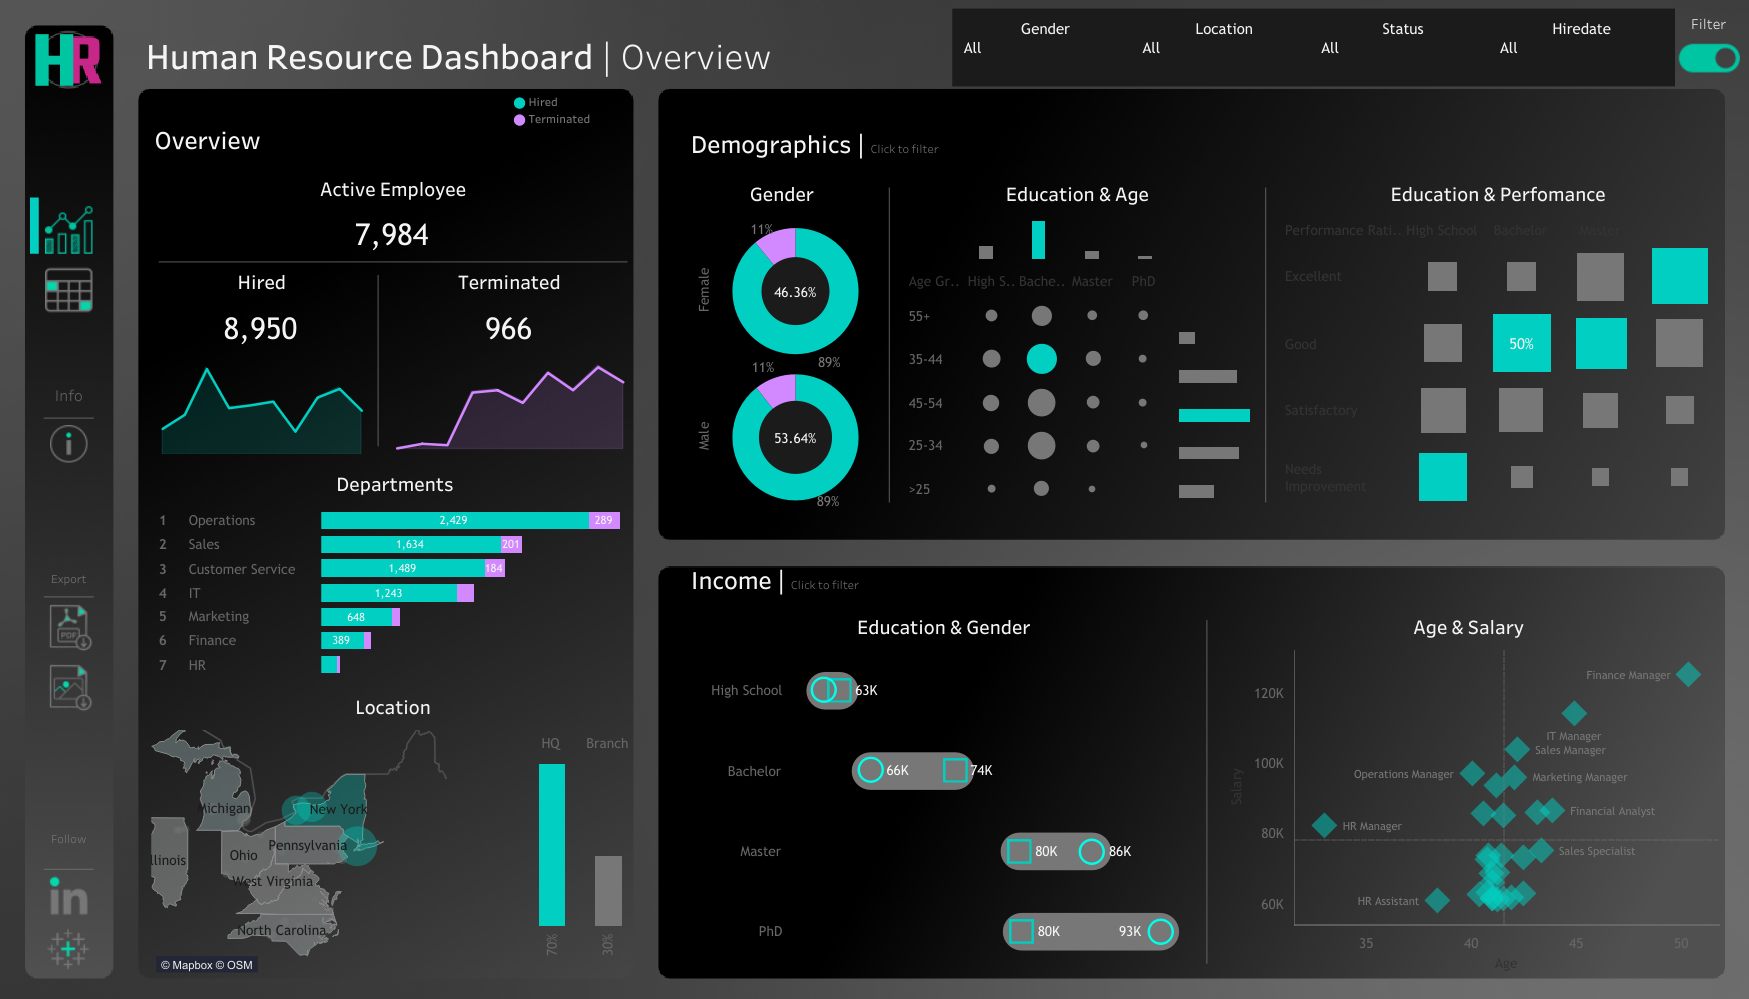

The page's visual inventory and layout, read from the dashboard file:
{"tool":"tableau","page":{"name":"HR_data","canvas":[1400,800],"ordinal":0},"visuals":[{"type":"image","param":"Image/background dashbaord summary.png","box":[0,0,1400,800]},{"type":"blank","box":[89,0,1316,363]},{"type":"text","box":[110,0,635,87]},{"type":"blank","box":[745,0,641,87]},{"type":"filter","title":"Gender vs Education level","param":"[federated.1k6ors91jbjti91bfgpzm10emwuz].[none:Gender:nk]","box":[765,10,143,56]},{"type":"filter","title":"Gender vs Education level","param":"[federated.1k6ors91jbjti91bfgpzm10emwuz].[none:Calculation_1438055678017351686:n","box":[908,10,143,56]},{"type":"filter","title":"Gender vs Education level","param":"[federated.1k6ors91jbjti91bfgpzm10emwuz].[none:Calculation_25332770489622528:nk]","box":[1051,10,143,56]},{"type":"filter","title":"Gender vs Education level","param":"[federated.1k6ors91jbjti91bfgpzm10emwuz].[yr:Hiredate:ok]","box":[1194,10,143,56]},{"type":"dashboard-object","box":[1343,18,49,57]},{"type":"image","param":"Image/Logo.png","box":[20,20,70,55]},{"type":"text","box":[408,66,100,44]},{"type":"blank","box":[20,75,70,80]},{"type":"text","box":[117,94,395,40]},{"type":"text","box":[546,94,833,41]},{"type":"text","box":[117,134,395,38]},{"type":"text","box":[546,140,160,33]},{"type":"blank","box":[711,140,1,272.5]},{"type":"text","box":[717,140,290,33]},{"type":"blank","box":[1012,140,1,272.5]},{"type":"text","box":[1018,140,361,33]},{"type":"blank","box":[24,158,7,45]},{"type":"dashboard-object","box":[30,165,50,38]},{"type":"worksheet","title":"Batch Active","mark":"Automatic","box":[117,172,395,42]},{"type":"worksheet","title":"Gender","mark":"Pie","rows":["Gender"],"cols":["Calculation_1438055678028283912","Calculation_1438055678028283912"],"box":[546,173,160,239.5]},{"type":"worksheet","title":" Education Levels","mark":"Bar","rows":["Calculation_1438055678006616064"],"cols":["Education Level"],"box":[717,173,290,41]},{"type":"worksheet","title":"Education vs Performance","mark":"Square","rows":["Performance Rating"],"cols":["Education Level"],"box":[1018,173,361,239.5]},{"type":"blank","box":[30,203,50,10]},{"type":"dashboard-object","box":[30,213,50,38]},{"type":"blank","box":[117,214,395,1]},{"type":"worksheet","title":"Age vs Education","mark":"Circle","rows":["Calculation_1438055678037385226"],"cols":["Education Level"],"box":[717,214,222,198.5]},{"type":"worksheet","title":"Age Groups","mark":"Bar","rows":["Calculation_1438055678037385226"],"cols":["Calculation_1438055678006616064"],"box":[939,214,68,198.5]},{"type":"text","box":[117,215,185,33]},{"type":"blank","box":[302,215,1,157]},{"type":"text","box":[303,215,208.9,33]},{"type":"worksheet","title":"Batch Hired","mark":"Automatic","box":[117,248,185,46]},{"type":"worksheet","title":"Batch Terminated","mark":"Automatic","box":[303,248,208.9,45]},{"type":"blank","box":[30,251,50,51.5]},{"type":"worksheet","title":"Terminated by Year","mark":"Line","rows":["Calculation_1438055678009270275","Calculation_1438055678009270275"],"cols":["Termdate"],"box":[303,293,208.9,79]},{"type":"worksheet","title":"Hired by Year","mark":"Line","rows":["Calculation_1438055678006616064","Calculation_1438055678006616064"],"cols":["Hiredate"],"box":[117,294,185,78]},{"type":"text","box":[30,302.5,50,29]},{"type":"blank","box":[30,331.5,50,11]},{"type":"dashboard-object","box":[30,342.5,50,30]},{"type":"text","box":[89,363,1316,262]},{"type":"blank","box":[30,372.5,50,51.5]},{"type":"blank","box":[127,377,123,33]},{"type":"text","box":[250,377,132,33]},{"type":"blank","box":[382,377,120,33]},{"type":"worksheet","title":"Employee Departments","mark":"Bar","rows":["Calculation_1438055678016319493","Department"],"cols":["Calculation_1438055678006616064"],"box":[117,410,395,143]},{"type":"blank","box":[30,424.1,50,29.2]},{"type":"text","box":[546,446.5,833,38.5]},{"type":"text","box":[30,453.3,50,20]},{"type":"blank","box":[30,473.3,50,11]},{"type":"dashboard-object","box":[30,484.3,50,38]},{"type":"text","box":[551,490,409,33]},{"type":"blank","box":[965,490,1,295]},{"type":"text","box":[971,490,408,33]},{"type":"blank","box":[30,522.3,50,10]},{"type":"worksheet","title":"Gender vs Education level","mark":"Shape","rows":["Education Level"],"cols":["Salary","Salary"],"box":[551,523,409,262]},{"type":"worksheet","title":"Age vs Salary","mark":"Shape","rows":["Salary"],"cols":["Calculation_1438055678036418569"],"box":[971,523,408,262]},{"type":"dashboard-object","box":[30,532.3,50,38]},{"type":"blank","box":[127,558,127.7,33]},{"type":"text","box":[254.7,558,119.7,33]},{"type":"blank","box":[374.3,558,127.7,33]},{"type":"blank","box":[30,570.3,50,51.5]},{"type":"worksheet","title":"Map state","mark":"Automatic","box":[117,591,298,194]},{"type":"worksheet","title":"Location","mark":"Bar","rows":["Calculation_1438055678006616064"],"cols":["Calculation_1438055678017351686","Calculation1"],"box":[415,591,97,194]},{"type":"blank","box":[30,621.8,50,29.2]},{"type":"blank","box":[89,625,1316,175]},{"type":"text","box":[30,651,50,39]},{"type":"blank","box":[30,690,50,11]},{"type":"image","param":"Image/contact-linkedin.png","box":[30,701,50,32]},{"type":"blank","box":[30,733,50,10]},{"type":"image","param":"Image/contact-public.png","box":[30,743,50,33]}]}

Visuals, with their boxes in screenshot pixels (x1, y1, x2, y2), scaled from the page's 1400x800 canvas onto the 1749x999 screenshot:
image: {"x1": 0, "y1": 0, "x2": 1748, "y2": 998}
blank: {"x1": 111, "y1": 0, "x2": 1748, "y2": 453}
text: {"x1": 137, "y1": 0, "x2": 931, "y2": 109}
blank: {"x1": 931, "y1": 0, "x2": 1732, "y2": 109}
"Gender vs Education level" filter: {"x1": 956, "y1": 12, "x2": 1134, "y2": 82}
"Gender vs Education level" filter: {"x1": 1134, "y1": 12, "x2": 1313, "y2": 82}
"Gender vs Education level" filter: {"x1": 1313, "y1": 12, "x2": 1492, "y2": 82}
"Gender vs Education level" filter: {"x1": 1492, "y1": 12, "x2": 1670, "y2": 82}
dashboard-object: {"x1": 1678, "y1": 22, "x2": 1739, "y2": 94}
image: {"x1": 25, "y1": 25, "x2": 112, "y2": 94}
text: {"x1": 510, "y1": 82, "x2": 635, "y2": 137}
blank: {"x1": 25, "y1": 94, "x2": 112, "y2": 194}
text: {"x1": 146, "y1": 117, "x2": 640, "y2": 167}
text: {"x1": 682, "y1": 117, "x2": 1723, "y2": 169}
text: {"x1": 146, "y1": 167, "x2": 640, "y2": 215}
text: {"x1": 682, "y1": 175, "x2": 882, "y2": 216}
blank: {"x1": 888, "y1": 175, "x2": 889, "y2": 515}
text: {"x1": 896, "y1": 175, "x2": 1258, "y2": 216}
blank: {"x1": 1264, "y1": 175, "x2": 1266, "y2": 515}
text: {"x1": 1272, "y1": 175, "x2": 1723, "y2": 216}
blank: {"x1": 30, "y1": 197, "x2": 39, "y2": 253}
dashboard-object: {"x1": 37, "y1": 206, "x2": 100, "y2": 253}
"Batch Active" worksheet: {"x1": 146, "y1": 215, "x2": 640, "y2": 267}
"Gender" worksheet (Pie marks): {"x1": 682, "y1": 216, "x2": 882, "y2": 515}
" Education Levels" worksheet (Bar marks): {"x1": 896, "y1": 216, "x2": 1258, "y2": 267}
"Education vs Performance" worksheet (Square marks): {"x1": 1272, "y1": 216, "x2": 1723, "y2": 515}
blank: {"x1": 37, "y1": 253, "x2": 100, "y2": 266}
dashboard-object: {"x1": 37, "y1": 266, "x2": 100, "y2": 313}
blank: {"x1": 146, "y1": 267, "x2": 640, "y2": 268}
"Age vs Education" worksheet (Circle marks): {"x1": 896, "y1": 267, "x2": 1173, "y2": 515}
"Age Groups" worksheet (Bar marks): {"x1": 1173, "y1": 267, "x2": 1258, "y2": 515}
text: {"x1": 146, "y1": 268, "x2": 377, "y2": 310}
blank: {"x1": 377, "y1": 268, "x2": 379, "y2": 465}
text: {"x1": 379, "y1": 268, "x2": 640, "y2": 310}
"Batch Hired" worksheet: {"x1": 146, "y1": 310, "x2": 377, "y2": 367}
"Batch Terminated" worksheet: {"x1": 379, "y1": 310, "x2": 640, "y2": 366}
blank: {"x1": 37, "y1": 313, "x2": 100, "y2": 378}
"Terminated by Year" worksheet (Line marks): {"x1": 379, "y1": 366, "x2": 640, "y2": 465}
"Hired by Year" worksheet (Line marks): {"x1": 146, "y1": 367, "x2": 377, "y2": 465}
text: {"x1": 37, "y1": 378, "x2": 100, "y2": 414}
blank: {"x1": 37, "y1": 414, "x2": 100, "y2": 428}
dashboard-object: {"x1": 37, "y1": 428, "x2": 100, "y2": 465}
text: {"x1": 111, "y1": 453, "x2": 1748, "y2": 780}
blank: {"x1": 37, "y1": 465, "x2": 100, "y2": 529}
blank: {"x1": 159, "y1": 471, "x2": 312, "y2": 512}
text: {"x1": 312, "y1": 471, "x2": 477, "y2": 512}
blank: {"x1": 477, "y1": 471, "x2": 627, "y2": 512}
"Employee Departments" worksheet (Bar marks): {"x1": 146, "y1": 512, "x2": 640, "y2": 691}
blank: {"x1": 37, "y1": 530, "x2": 100, "y2": 566}
text: {"x1": 682, "y1": 558, "x2": 1723, "y2": 606}
text: {"x1": 37, "y1": 566, "x2": 100, "y2": 591}
blank: {"x1": 37, "y1": 591, "x2": 100, "y2": 605}
dashboard-object: {"x1": 37, "y1": 605, "x2": 100, "y2": 652}
text: {"x1": 688, "y1": 612, "x2": 1199, "y2": 653}
blank: {"x1": 1206, "y1": 612, "x2": 1207, "y2": 980}
text: {"x1": 1213, "y1": 612, "x2": 1723, "y2": 653}
blank: {"x1": 37, "y1": 652, "x2": 100, "y2": 665}
"Gender vs Education level" worksheet (Shape marks): {"x1": 688, "y1": 653, "x2": 1199, "y2": 980}
"Age vs Salary" worksheet (Shape marks): {"x1": 1213, "y1": 653, "x2": 1723, "y2": 980}
dashboard-object: {"x1": 37, "y1": 665, "x2": 100, "y2": 712}
blank: {"x1": 159, "y1": 697, "x2": 318, "y2": 738}
text: {"x1": 318, "y1": 697, "x2": 468, "y2": 738}
blank: {"x1": 468, "y1": 697, "x2": 627, "y2": 738}
blank: {"x1": 37, "y1": 712, "x2": 100, "y2": 776}
"Map state" worksheet: {"x1": 146, "y1": 738, "x2": 518, "y2": 980}
"Location" worksheet (Bar marks): {"x1": 518, "y1": 738, "x2": 640, "y2": 980}
blank: {"x1": 37, "y1": 776, "x2": 100, "y2": 813}
blank: {"x1": 111, "y1": 780, "x2": 1748, "y2": 998}
text: {"x1": 37, "y1": 813, "x2": 100, "y2": 862}
blank: {"x1": 37, "y1": 862, "x2": 100, "y2": 875}
image: {"x1": 37, "y1": 875, "x2": 100, "y2": 915}
blank: {"x1": 37, "y1": 915, "x2": 100, "y2": 928}
image: {"x1": 37, "y1": 928, "x2": 100, "y2": 969}
